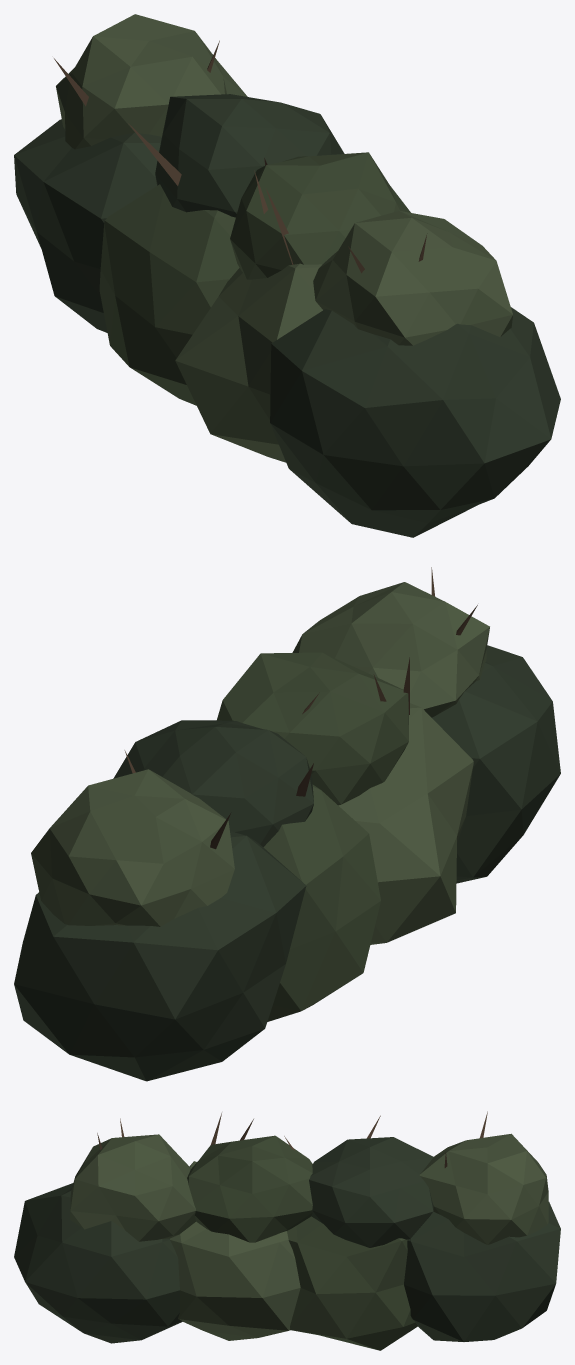
Rendered from bree_hedge.glb.
3 renders of one model, top to bottom at view 1: azimuth 30°, elevation 25°; view 2: azimuth 150°, elevation 25°; view 3: azimuth 270°, elevation 25°, orthographic. The views are drawn at different scales.
Visible parts, largest first — view 1: bree_hedge; view 2: bree_hedge; view 3: bree_hedge.
Boxes of the visible parts, x1,y1,x2,y2 form: bree_hedge: (14, 14, 560, 537); bree_hedge: (14, 567, 560, 1081); bree_hedge: (14, 1111, 560, 1350).
Size of what is drawn, in the model's own units: 1.71 by 2 by 4.65.
